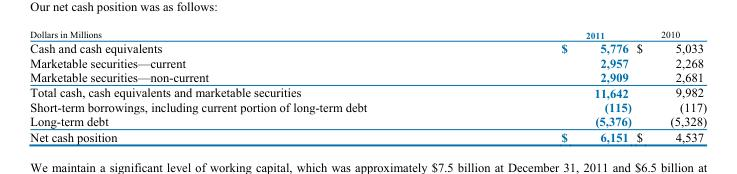table: (29, 29, 706, 143)
table column: (29, 29, 463, 143), (463, 29, 633, 143), (633, 29, 706, 143)
table column header: (29, 29, 706, 40)
table row: (29, 40, 706, 55), (29, 69, 706, 84), (29, 84, 706, 99), (29, 113, 706, 128), (29, 128, 706, 143), (29, 55, 706, 69), (29, 99, 706, 113), (29, 29, 706, 40)
